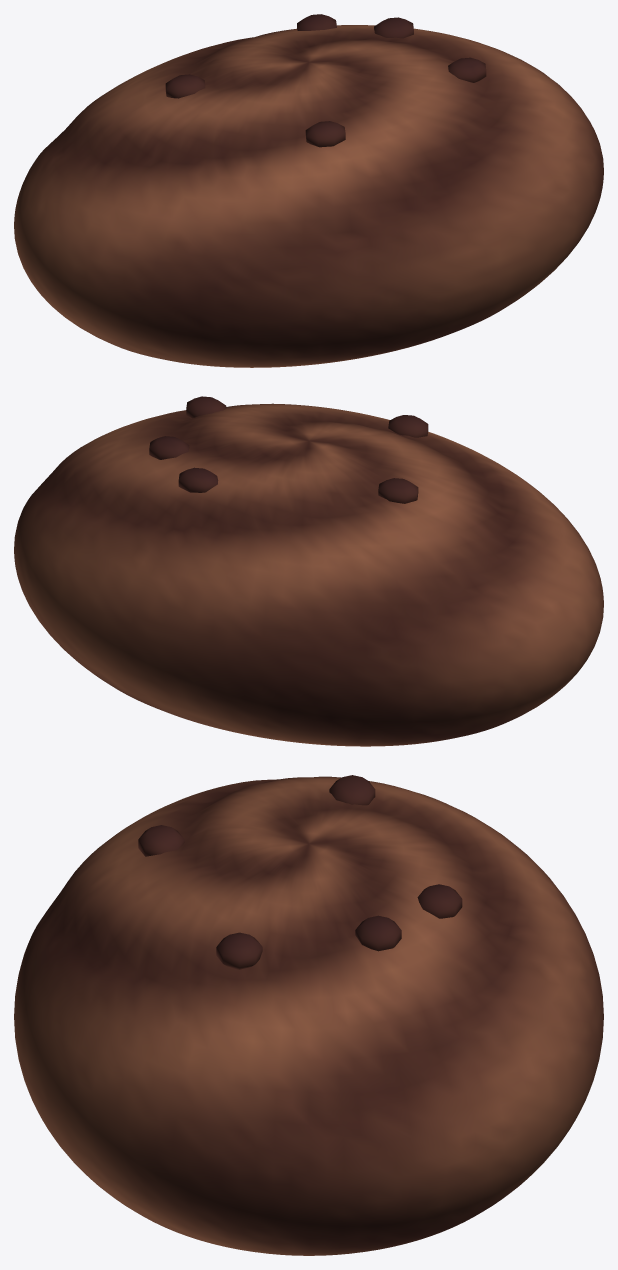
Rendered from bread_cocoa.glb.
3 renders of one model, top to bottom at view 1: azimuth 30°, elevation 25°; view 2: azimuth 150°, elevation 25°; view 3: azimuth 270°, elevation 25°, orthographic. The views are drawn at different scales.
Visible parts, largest first — view 1: ココアを折り込んだ渦巻き生地, 刻んだチョコ; view 2: ココアを折り込んだ渦巻き生地, 刻んだチョコ; view 3: ココアを折り込んだ渦巻き生地, 刻んだチョコ.
Part boxes in pixels (bbox=[...]): ココアを折り込んだ渦巻き生地: bbox=[14, 25, 603, 367]; 刻んだチョコ: bbox=[165, 14, 486, 147]; ココアを折り込んだ渦巻き生地: bbox=[14, 403, 603, 746]; 刻んだチョコ: bbox=[149, 396, 428, 503]; ココアを折り込んだ渦巻き生地: bbox=[14, 776, 603, 1255]; 刻んだチョコ: bbox=[138, 775, 462, 969].
Size of the model in its own units: 0.918 by 0.363 by 0.68.
